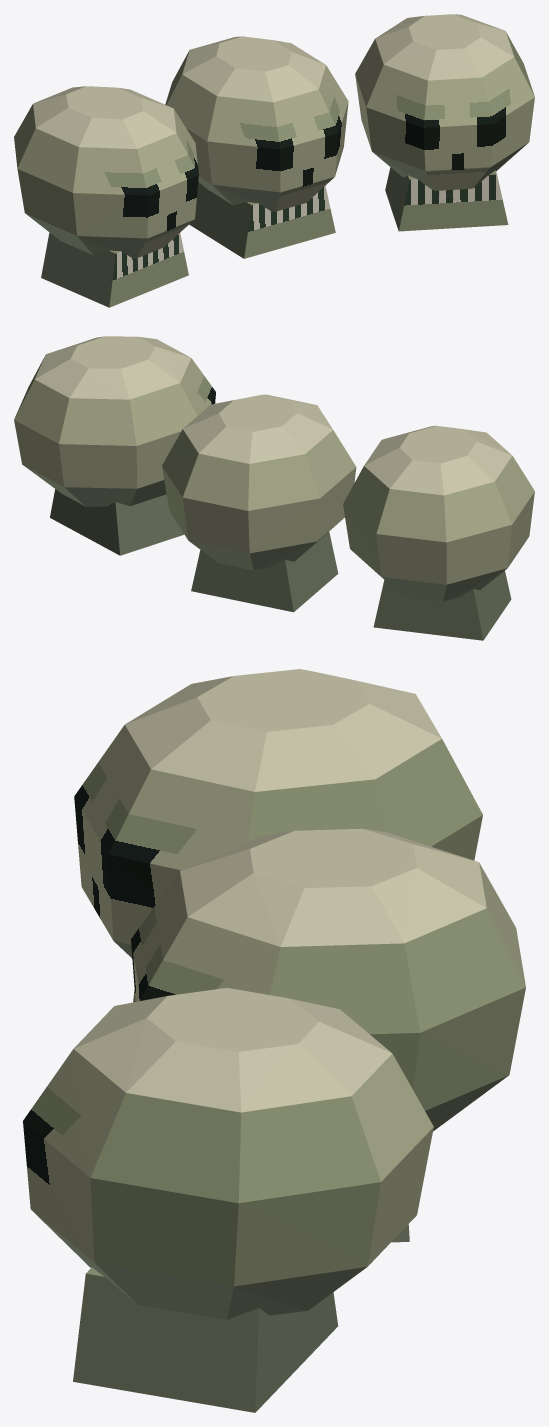
The model's file is fuellung_schaedel.glb.
3 renders of one model, top to bottom at view 1: azimuth 30°, elevation 25°; view 2: azimuth 150°, elevation 25°; view 3: azimuth 270°, elevation 25°, orthographic. The views are drawn at different scales.
Visible parts, largest first — view 1: schaedel; view 2: schaedel; view 3: schaedel.
Boxes of the visible parts, x1,y1,x2,y2 form: schaedel: (14,14,534,307); schaedel: (14,336,534,640); schaedel: (23,669,525,1412).
Bounding box in the file's own units: 0.4577 × 0.152 × 0.2046.
Materials: 1 (1 with a texture image).
